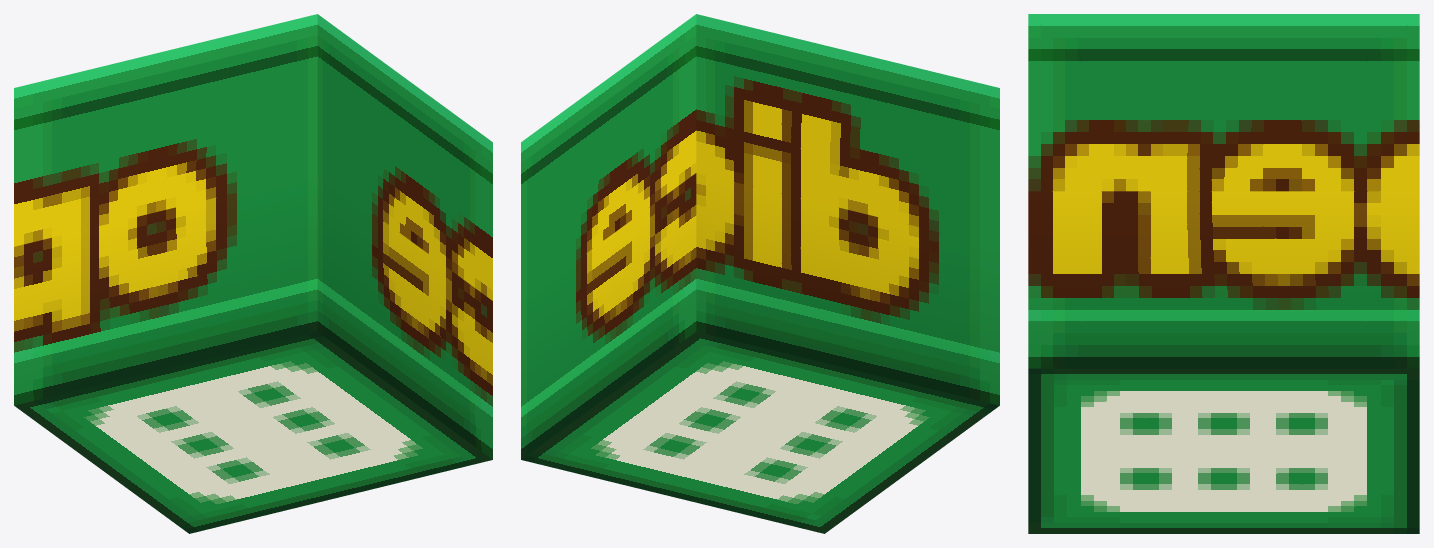
Rendered from ps2_save-icons_daiguruguruonsen-systemsave.glb.
3 views of the same model, side by side, from view 1: azimuth 30°, elevation 25°; view 2: azimuth 150°, elevation 25°; view 3: azimuth 270°, elevation 25° (orthographic). The views are drawn at different scales.
Parts seen in each view (by area): view 1: icon_b1.ico; view 2: icon_b1.ico; view 3: icon_b1.ico.
Part boxes in pixels (left/top/right/bottom): icon_b1.ico: left=14, top=14, right=492, bottom=533; icon_b1.ico: left=521, top=14, right=999, bottom=533; icon_b1.ico: left=1028, top=14, right=1419, bottom=533.
Size of the model in its own units: 2.5 by 2.5 by 2.5.
1 material, 1 textured.
